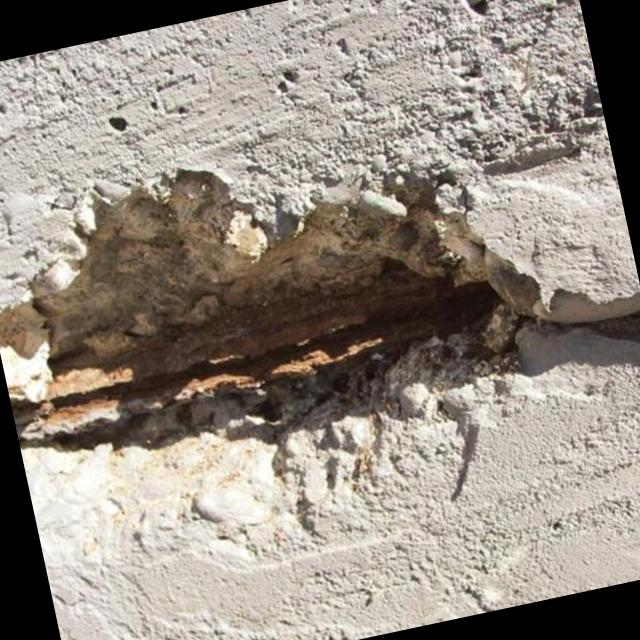spalling: (0, 165, 640, 455)
